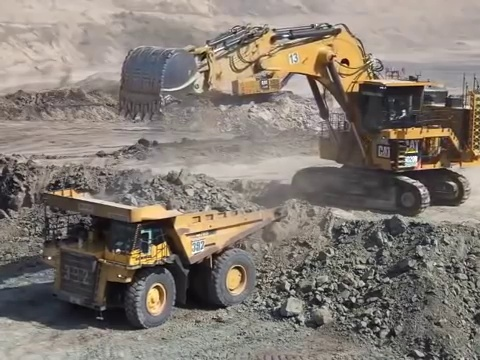dumper: (43, 187, 277, 326)
excavator: (116, 23, 478, 213)
